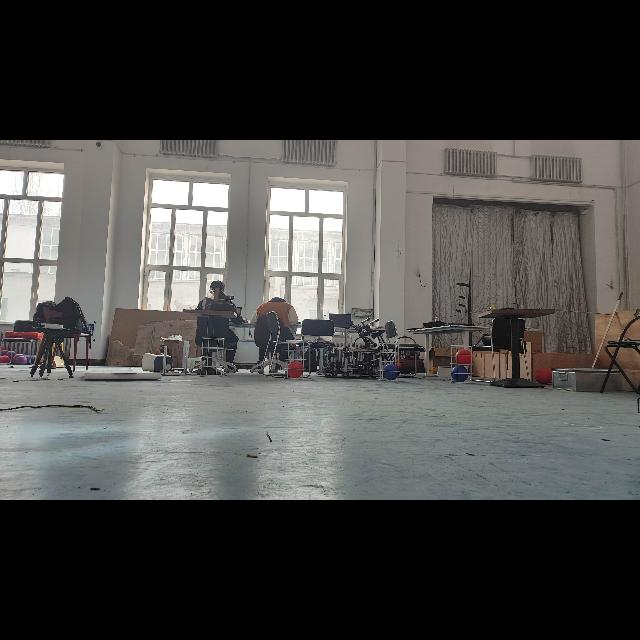B: (382, 364, 400, 380), (452, 366, 471, 380)
R: (454, 350, 474, 366), (286, 361, 304, 377)
S: (197, 335, 229, 379), (282, 338, 310, 382), (448, 344, 477, 386), (376, 342, 404, 382)
